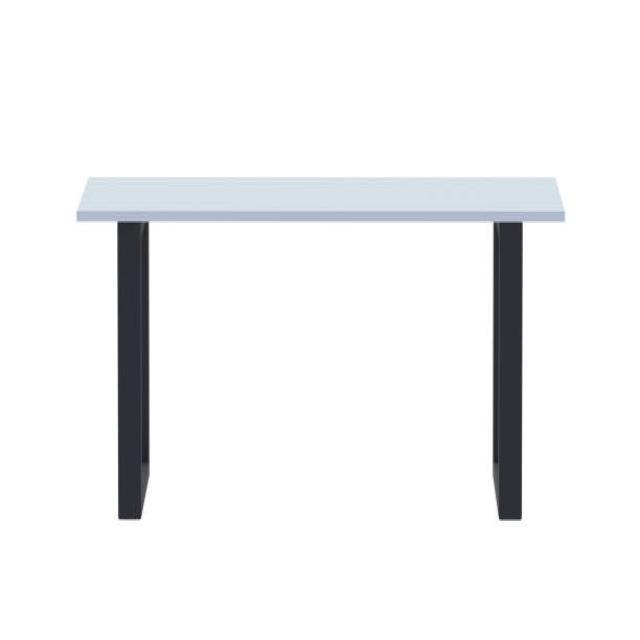table: (75, 174, 566, 522)
